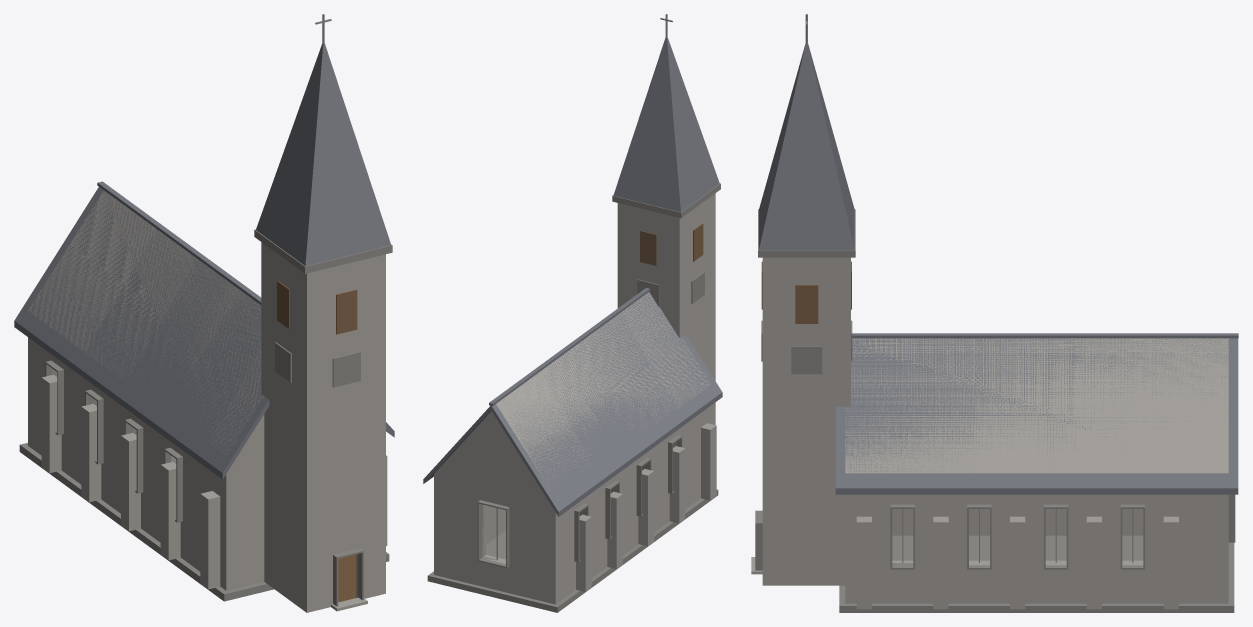
Rendered from Church.fbx.
The picture shows the model from 3 angles, left to right: view 1: azimuth 30°, elevation 25°; view 2: azimuth 150°, elevation 25°; view 3: azimuth 270°, elevation 25°; orthographic projection. The views are drawn at different scales.
Parts seen in each view (by area): view 1: Church; view 2: Church; view 3: Church.
Boxes of the visible parts, left/top/right/bottom form: Church: left=14, top=14, right=394, bottom=612; Church: left=423, top=14, right=722, bottom=612; Church: left=751, top=14, right=1238, bottom=612.
Size of the model in its own units: 10.4 by 25.43 by 32.2.
